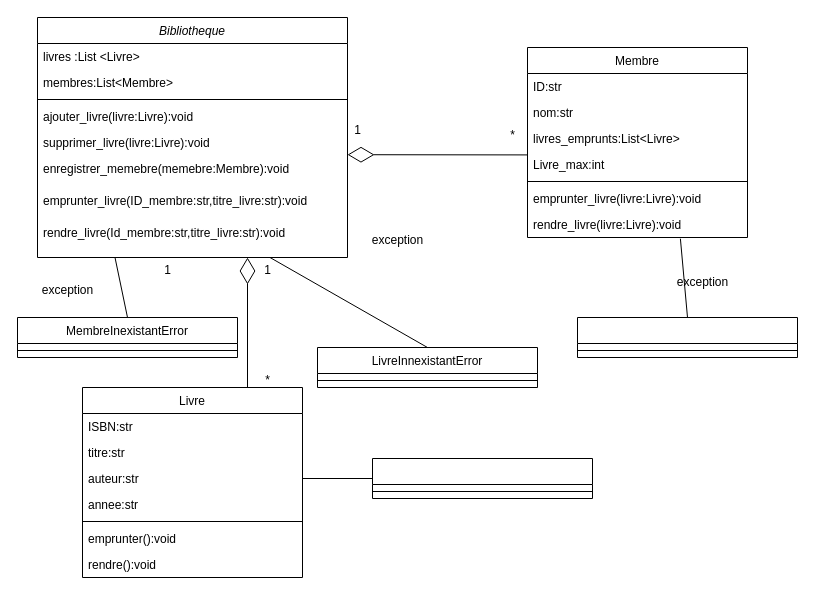
The diagram is 815 pixels wide and 598 high, and some of its shapes have lost their labels. Each missing label, with the centre of its shape:
LivreIndisponibleError: point (687, 337)
QuotaEmpruntDepasseError: point (482, 478)
